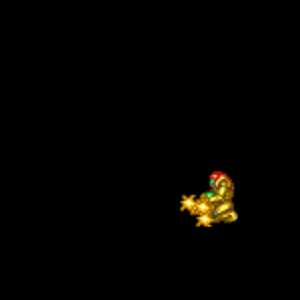Collectible: (180, 171, 238, 227)
